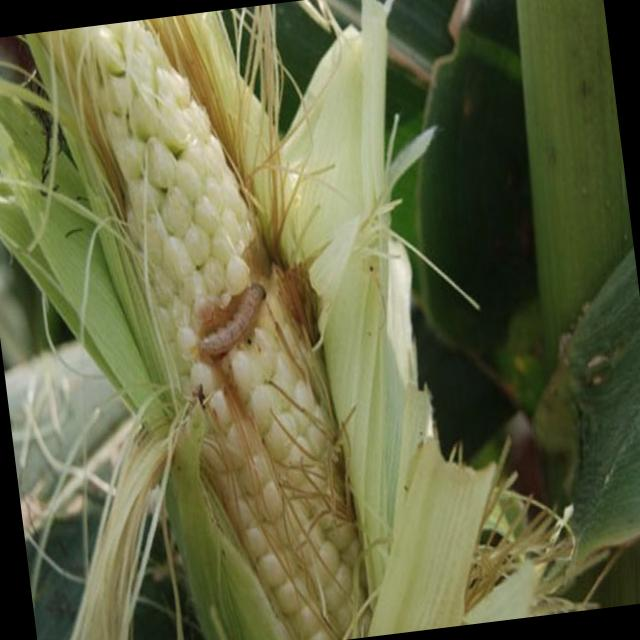pest: (194, 284, 274, 358)
